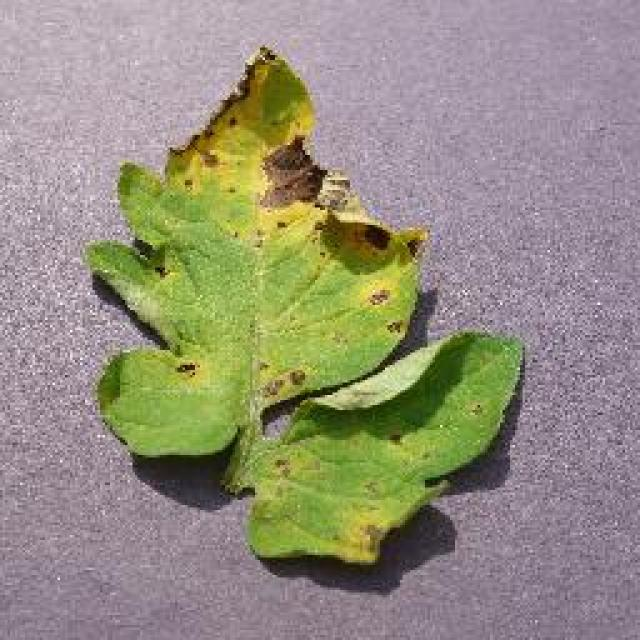Tom_Septoria_leaf_spot: (169, 48, 390, 270), (225, 346, 331, 424)
